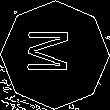M_E: (29, 31, 81, 79)
